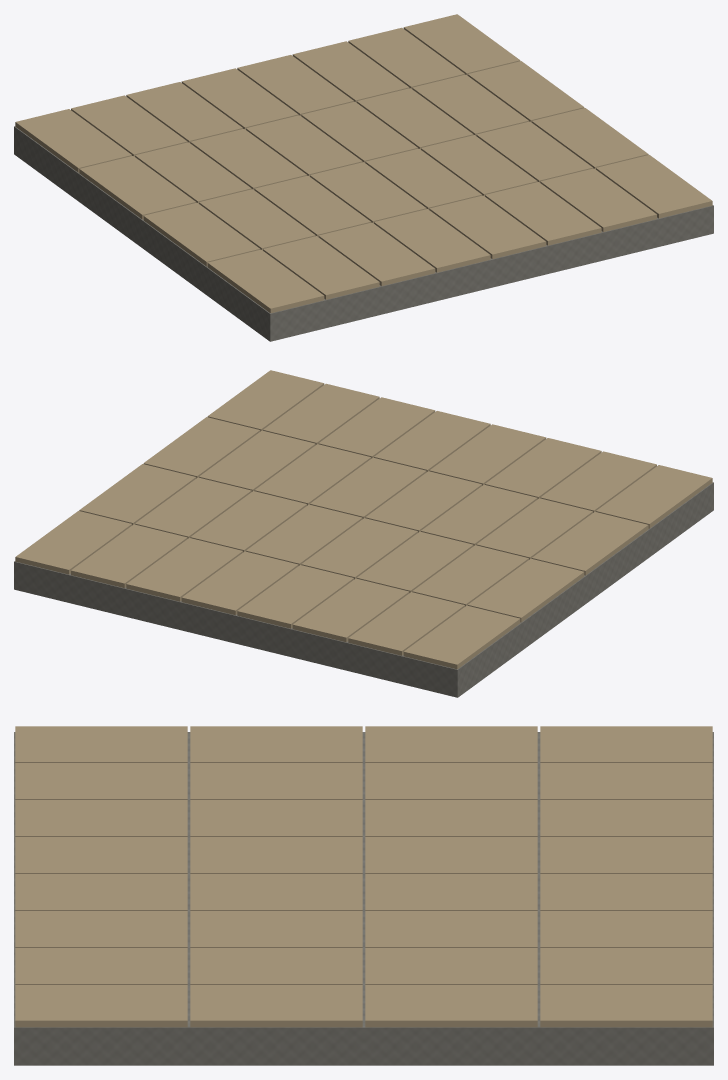
Rendered from OAA_Pedestrian_Paving_2x2m.fbx.
3 views of the same model, one above another, from view 1: azimuth 30°, elevation 25°; view 2: azimuth 150°, elevation 25°; view 3: azimuth 270°, elevation 25° (orthographic). The views are drawn at different scales.
Visible parts, largest first — view 1: Body; view 2: Body; view 3: Body.
Boxes of the visible parts, x1=… form: Body: x1=14, y1=14, x2=713, y2=341; Body: x1=14, y1=370, x2=713, y2=697; Body: x1=14, y1=726, x2=713, y2=1065.
Bounding box in the file's own units: 2 × 0.14 × 2.
